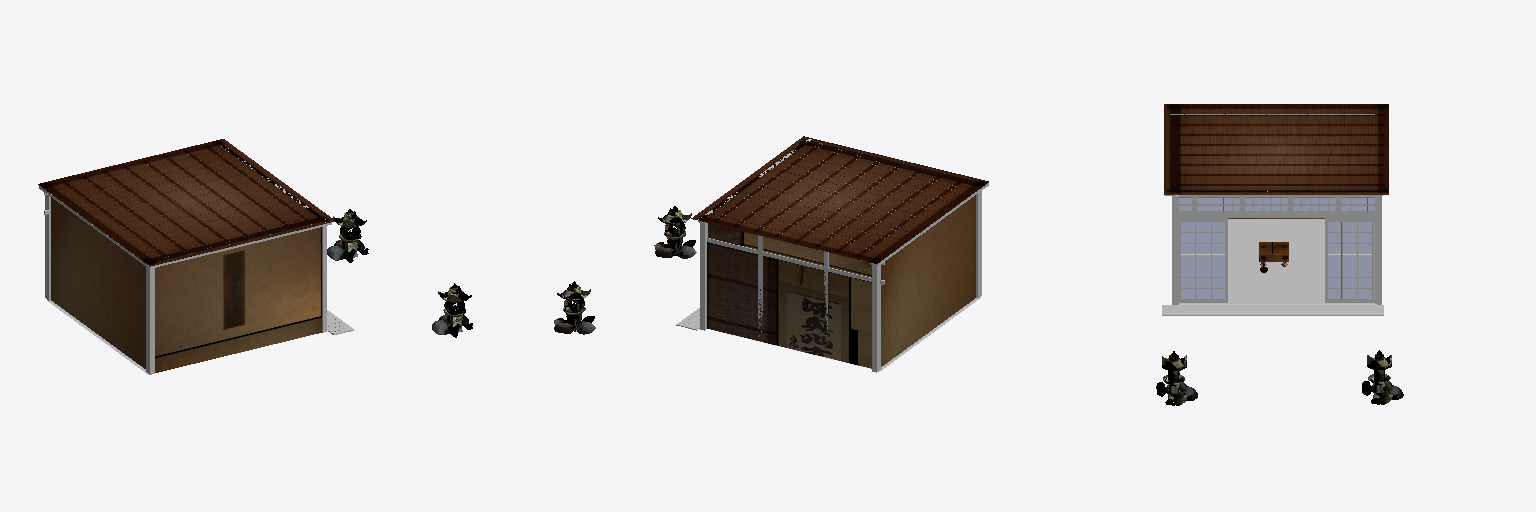
3 renders of one model, left to right at view 1: azimuth 30°, elevation 25°; view 2: azimuth 150°, elevation 25°; view 3: azimuth 270°, elevation 25°, orthographic.
Visible parts, largest first — view 1: WoodBase; view 2: WoodBase; view 3: WoodBase.
Boxes of the visible parts, <box> form: WoodBase: <box>38,139,472,374</box>; WoodBase: <box>554,136,988,372</box>; WoodBase: <box>1156,104,1403,405</box>.
Size of the model in its own units: 12.07 by 5.05 by 7.88.
Materials: 15 (8 with a texture image).